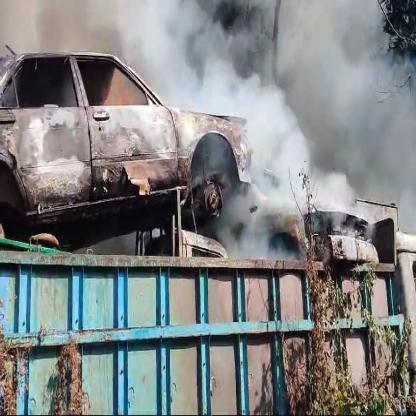Smoke: (0, 0, 415, 268)
